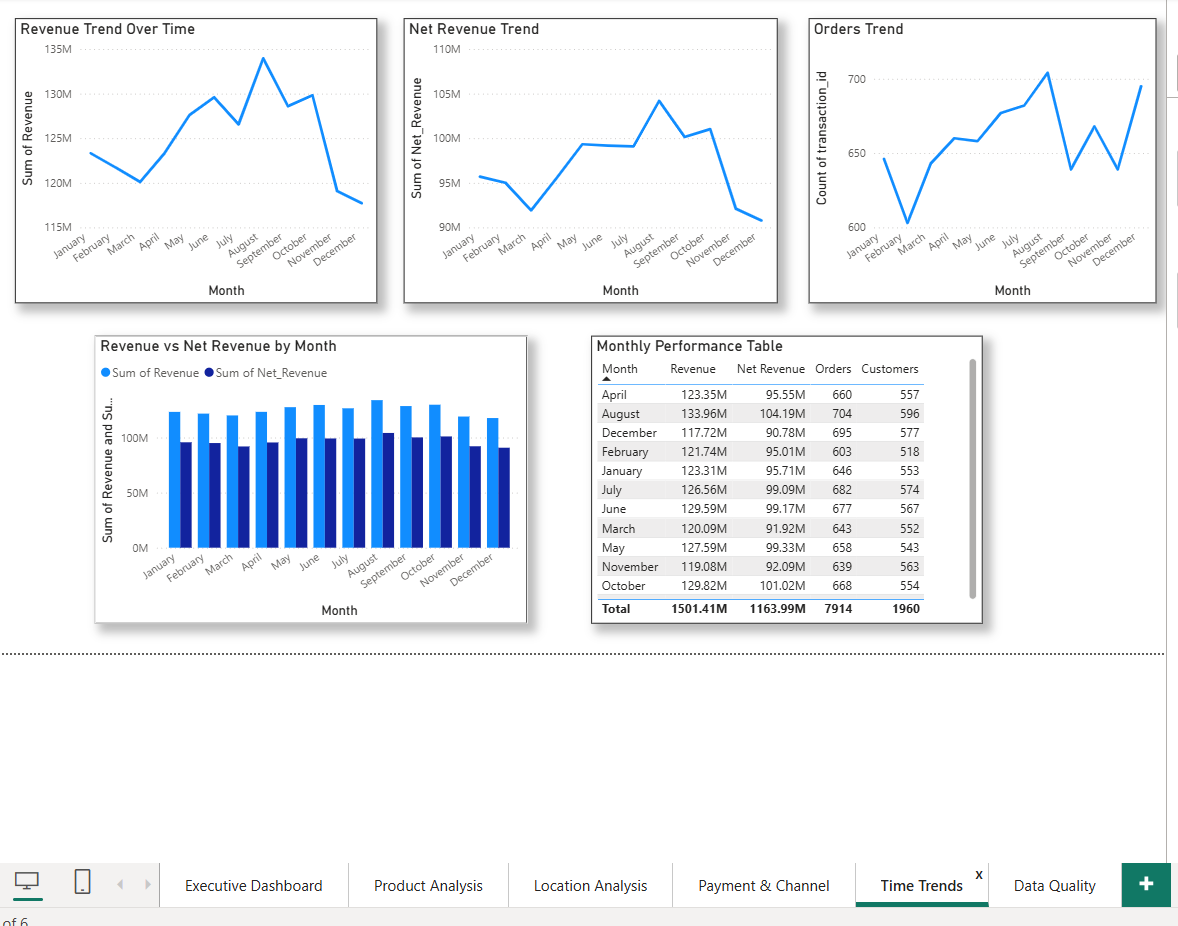

What the dashboard file says about the page in this screenshot:
{"tool":"powerbi","page":{"name":"Time Trends","canvas":[1280,720],"ordinal":4},"visuals":[{"type":"lineChart","title":"Revenue Trend Over Time","fields":{"Category":["retail_master_curated.transaction_date.Variation.Date Hierarchy.Year","retail_master_curated.transaction_date.Variation.Date Hierarchy.Quarter","retail_master_curated.transaction_date.Variation.Date Hierarchy.Month"],"Y":["Sum(retail_master_curated.Revenue)"]},"box":[16.5,23.3,397.9,312.9],"z":0},{"type":"lineChart","title":"Net Revenue Trend","fields":{"Category":["retail_master_curated.transaction_date.Variation.Date Hierarchy.Year","retail_master_curated.transaction_date.Variation.Date Hierarchy.Quarter","retail_master_curated.transaction_date.Variation.Date Hierarchy.Month","retail_master_curated.transaction_date.Variation.Date Hierarchy.Day"],"Y":["Sum(retail_master_curated.Net_Revenue)"]},"box":[443.2,23.3,410.3,312.9],"z":1000},{"type":"lineChart","title":"Orders Trend","fields":{"Category":["retail_master_curated.transaction_date.Variation.Date Hierarchy.Year","retail_master_curated.transaction_date.Variation.Date Hierarchy.Quarter","retail_master_curated.transaction_date.Variation.Date Hierarchy.Month","retail_master_curated.transaction_date.Variation.Date Hierarchy.Day"],"Y":["CountNonNull(retail_master_curated.transaction_id)"]},"box":[887.8,23.3,381.5,312.9],"z":2000},{"type":"clusteredColumnChart","title":"Revenue vs Net Revenue by Month","fields":{"Y":["Sum(retail_master_curated.Revenue)","Sum(retail_master_curated.Net_Revenue)"],"Category":["retail_master_curated.transaction_date.Variation.Date Hierarchy.Month"]},"box":[104.3,371.9,474.8,315.6],"z":3000},{"type":"tableEx","title":"Monthly Performance Table","fields":{"Values":["retail_master_curated.Month","Sum(retail_master_curated.Revenue)","Sum(retail_master_curated.Net_Revenue)","CountNonNull(retail_master_curated.transaction_id)","retail_master_curated.customer_id"]},"box":[649.1,371.9,429.5,315.6],"z":4000}]}

Visuals, with their boxes in screenshot pixels (x1, y1, x2, y2):
"Revenue Trend Over Time" lineChart: x1=12 y1=18 x2=373 y2=302
"Net Revenue Trend" lineChart: x1=399 y1=18 x2=772 y2=302
"Orders Trend" lineChart: x1=803 y1=18 x2=1149 y2=302
"Revenue vs Net Revenue by Month" clusteredColumnChart: x1=92 y1=334 x2=523 y2=621
"Monthly Performance Table" tableEx: x1=586 y1=334 x2=976 y2=621
